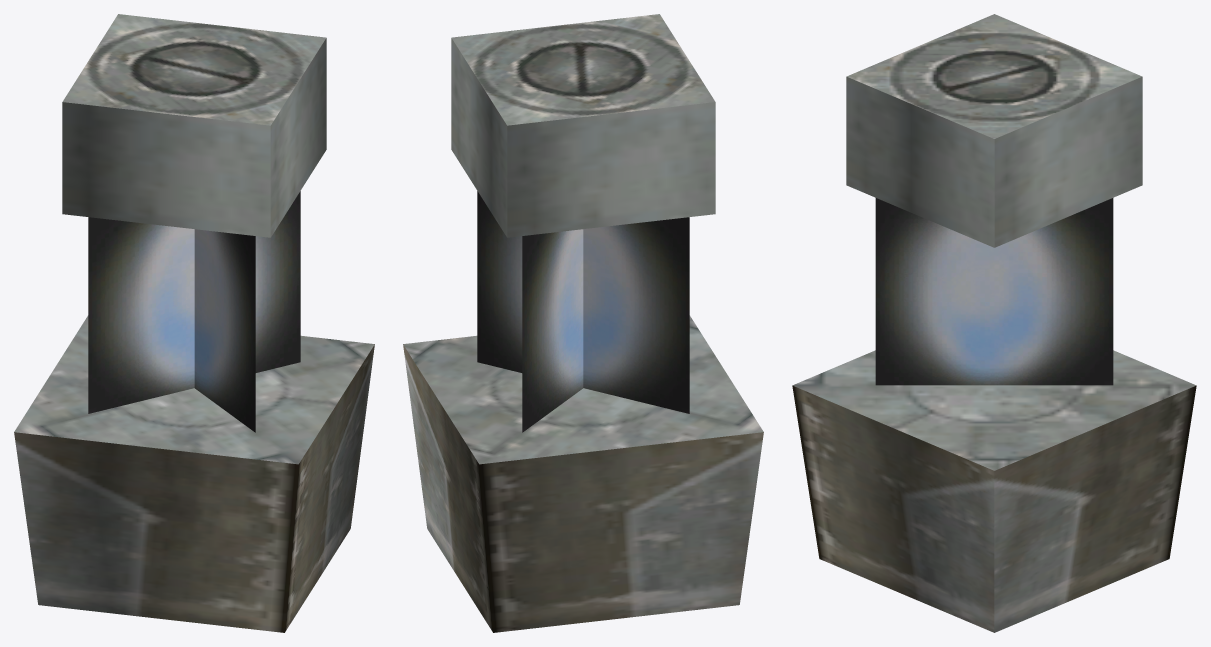
Rendered from frn_all_glow_light_l1.fbx.
3 renders of one model, left to right at view 1: azimuth 30°, elevation 25°; view 2: azimuth 150°, elevation 25°; view 3: azimuth 270°, elevation 25°, orthographic. The views are drawn at different scales.
Visible parts, largest first — view 1: mesh_node; view 2: mesh_node; view 3: mesh_node.
Boxes of the visible parts, <box> form: mesh_node: <box>14,14,374,632</box>; mesh_node: <box>403,14,763,632</box>; mesh_node: <box>792,14,1196,632</box>.
Bounding box in the file's own units: 0.0835 × 0.1099 × 0.0835.
2 materials, 2 textured.
